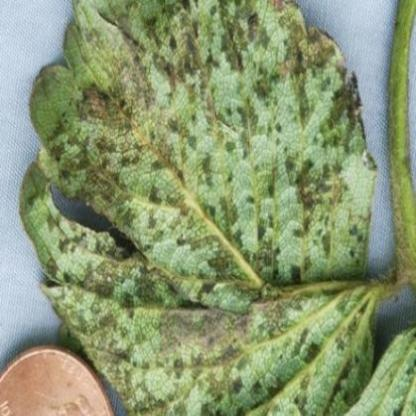Strawberry_Angular_LeafSpot: (19, 0, 382, 415), (348, 324, 415, 416)
